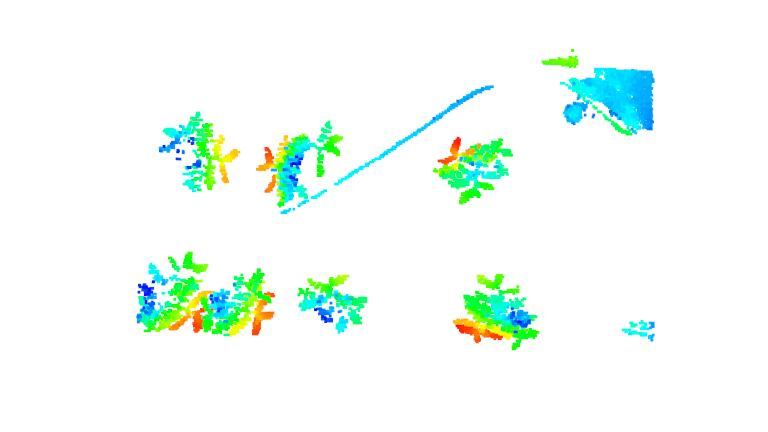chickpea: (453, 273, 543, 352), (155, 112, 238, 192), (135, 251, 210, 337), (434, 137, 517, 203), (201, 268, 276, 340), (295, 271, 370, 335), (254, 131, 309, 209), (306, 121, 346, 178)
